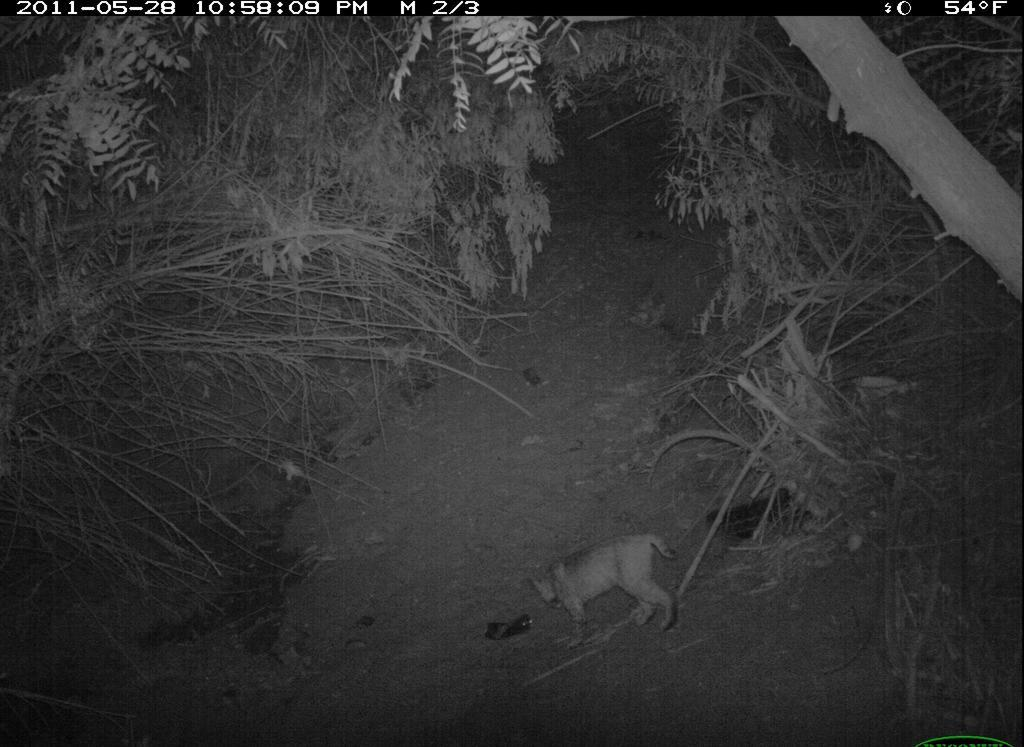bobcat: (506, 523, 696, 653)
